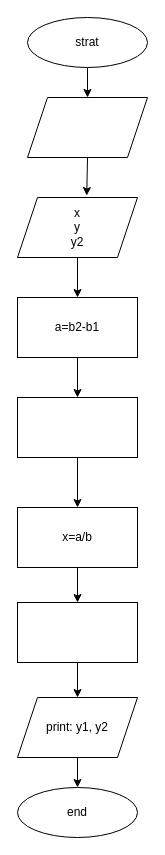
This 165x855 diagram has some shape labels left out. The centre of each missing label's shape, as x and y in pixels:
"b1 k1 b2 k2" goes at pixel 87 127.
"b=k1-k2" goes at pixel 77 427.
"y1 = k1*x+b1 y2 = k2*x+b2" goes at pixel 77 632.
